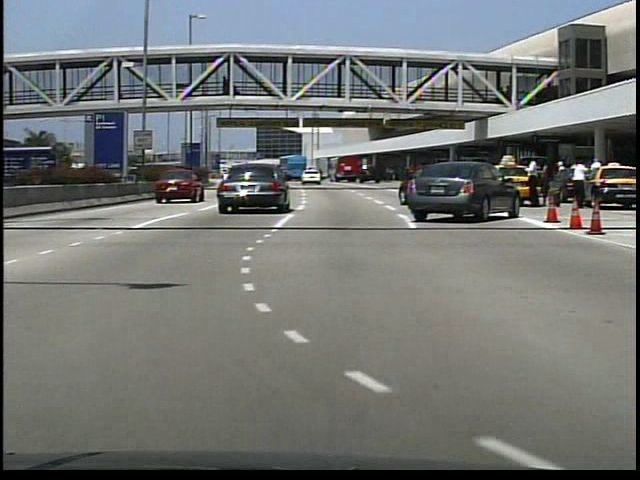person: (568, 158, 592, 210), (523, 155, 543, 213), (552, 159, 571, 206), (220, 76, 231, 100)
